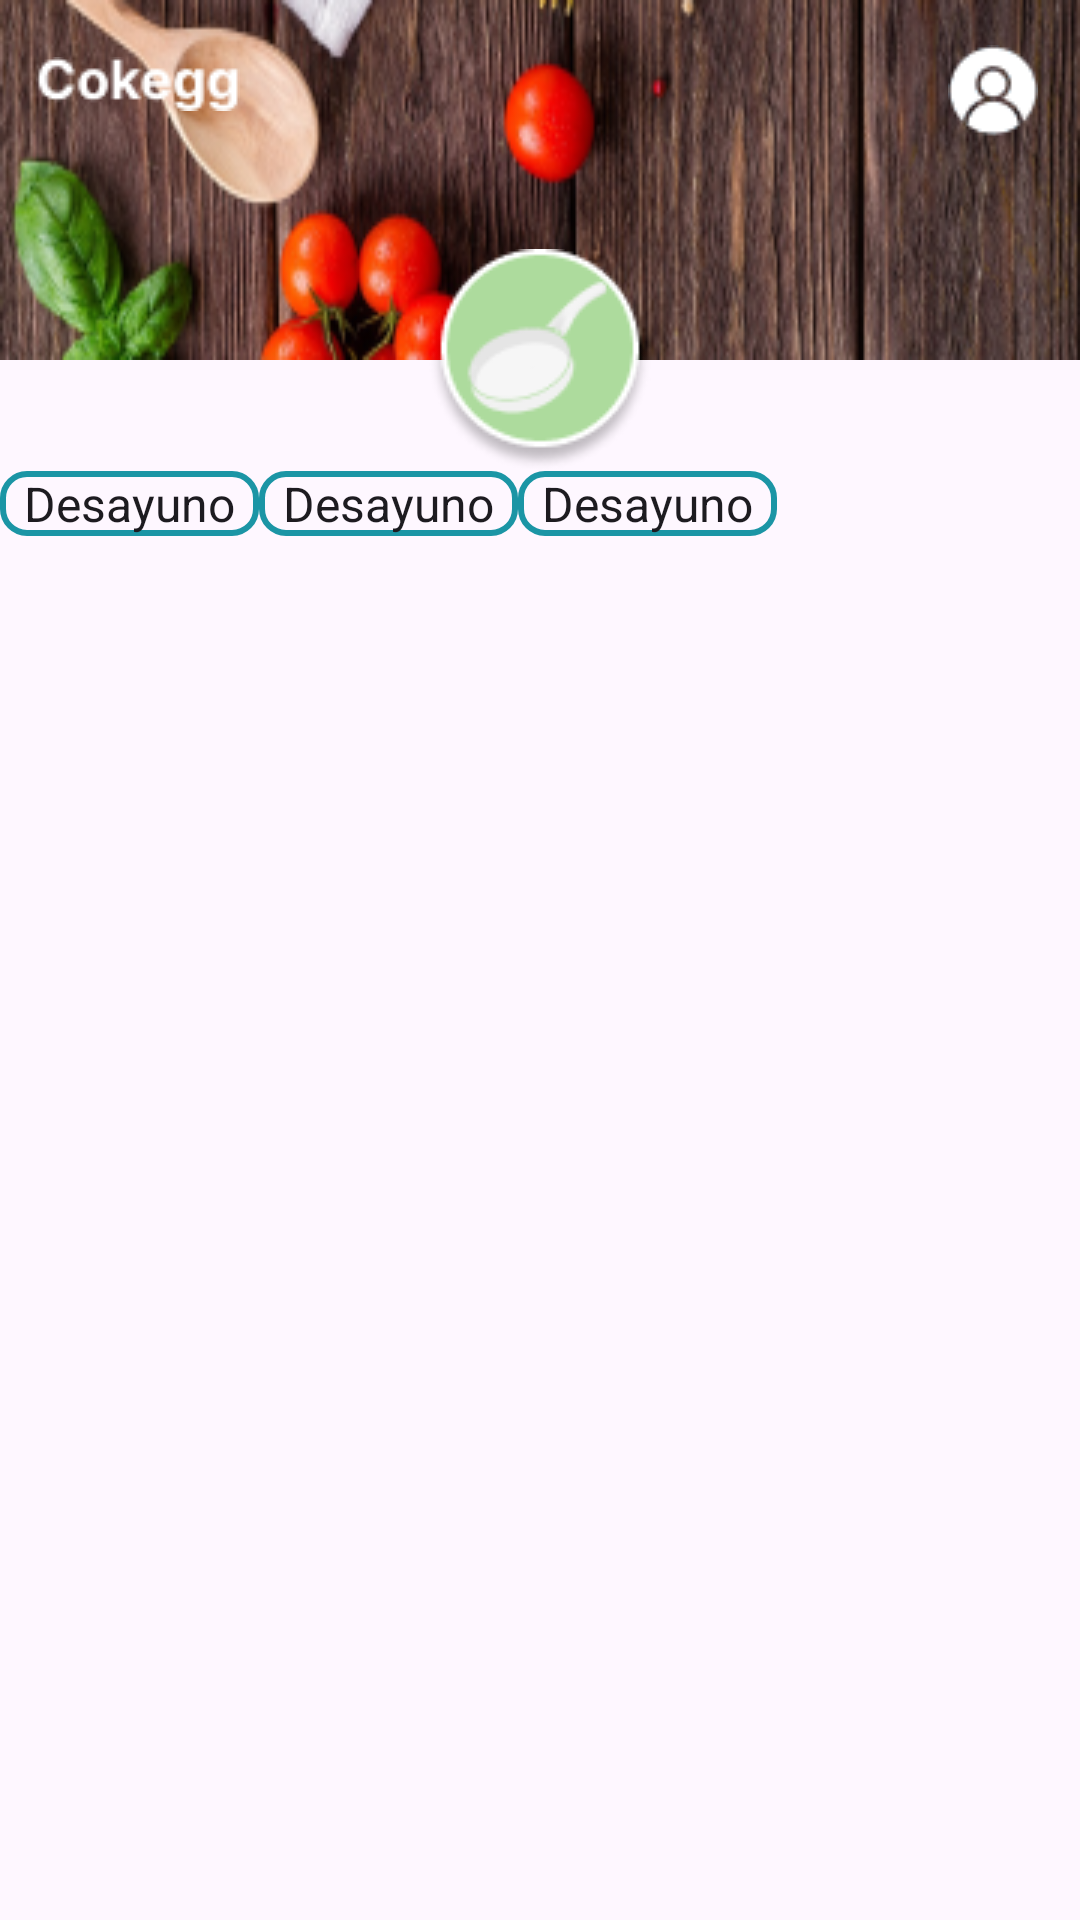

Icons on this 1080px×1920px Android screen, each with the point to tap as (x,y):
account: (993,91)
